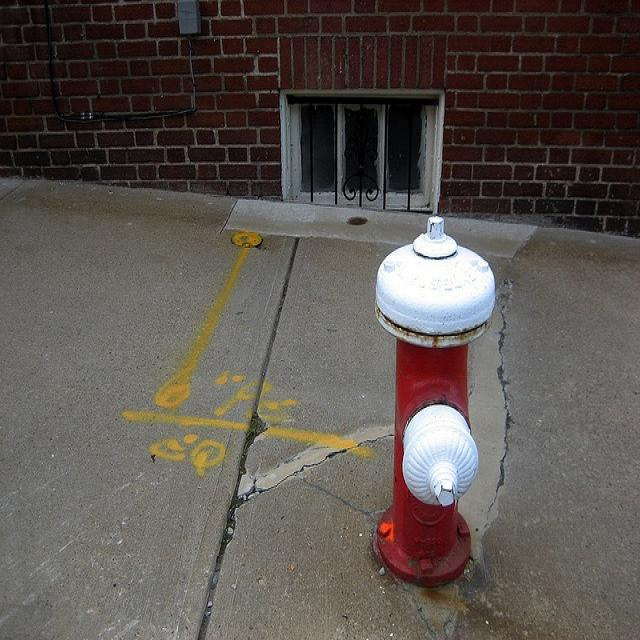fire_hydrant: (371, 212, 495, 579)
